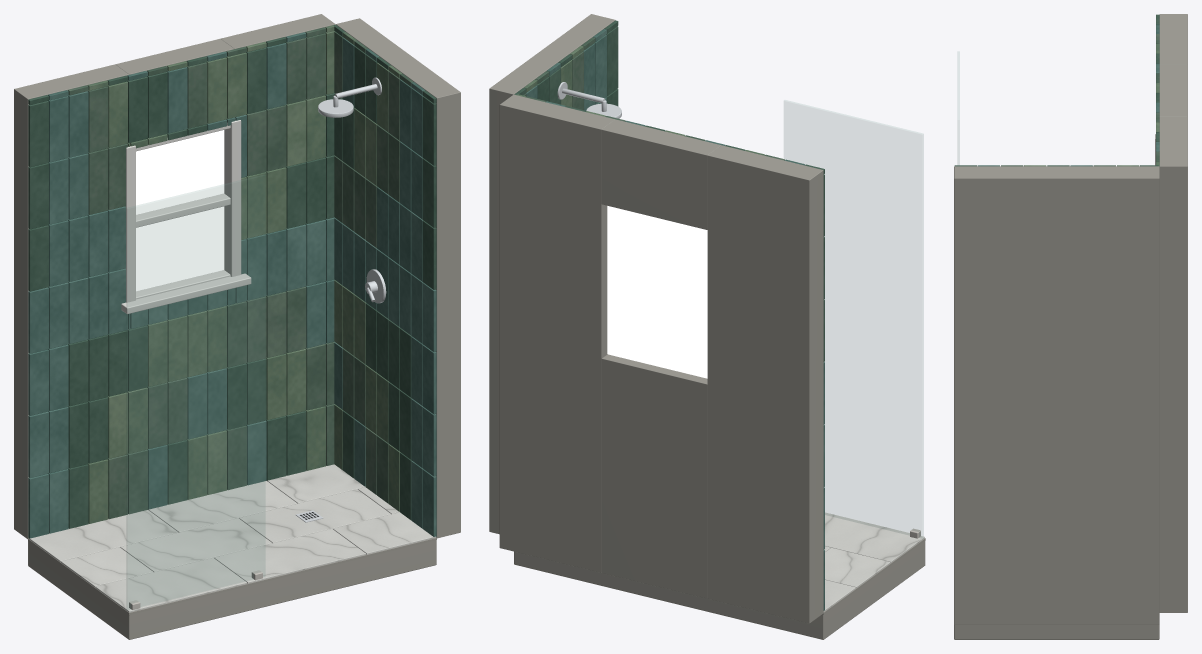
Rendered from walk-in-shower-remodel.glb.
3 renders of one model, left to right at view 1: azimuth 30°, elevation 25°; view 2: azimuth 150°, elevation 25°; view 3: azimuth 270°, elevation 25°, orthographic.
Parts seen in each view (by area): view 1: Frameless screen, Vertically laid green tile · field tile, White shower pan · tile, Vertically laid green tile · field tile.001, Vertically laid green tile · field tile.002, Vertically laid green tile · field tile.003, Glazed green return · field tile, Glazed green return · wall core, White framed window · frosted glazing, Glazed green return · field tile.001, Vertically laid green tile · wall core, White shower pan · foundation (+6 smaller); view 2: Vertically laid green tile · wall core, Frameless screen, White framed window · frosted glazing, Glazed green return · wall core, White shower pan · foundation, White shower pan · tile, Glazed green return · field tile.001, Glazed green return · field tile, Glazed green return · field tile.003, Vertically laid green tile · field tile; view 3: Glazed green return · wall core, Vertically laid green tile · wall core, White shower pan · foundation.
Part boxes in pixels (box(x1,y1,x2,y2)): Frameless screen: box(127, 175, 264, 609); Vertically laid green tile · field tile: box(28, 32, 334, 538); White shower pan · tile: box(28, 464, 436, 612); Vertically laid green tile · field tile.001: box(28, 37, 334, 528); Vertically laid green tile · field tile.002: box(87, 24, 335, 523); Vertically laid green tile · field tile.003: box(68, 27, 334, 519); Glazed green return · field tile: box(334, 37, 436, 537); Glazed green return · wall core: box(336, 18, 460, 538); White framed window · frosted glazing: box(136, 130, 224, 291); Glazed green return · field tile.001: box(334, 24, 436, 519); Vertically laid green tile · wall core: box(14, 14, 335, 539); White shower pan · foundation: box(28, 540, 436, 639); Vertically laid green tile · wall core: box(499, 94, 823, 623); Frameless screen: box(784, 100, 923, 538); White framed window · frosted glazing: box(607, 206, 707, 378); Glazed green return · wall core: box(489, 14, 615, 534); White shower pan · foundation: box(514, 541, 925, 639); White shower pan · tile: box(823, 512, 924, 611); Glazed green return · field tile.001: box(514, 20, 618, 106); Glazed green return · field tile: box(526, 29, 606, 111); Glazed green return · field tile.003: box(523, 37, 595, 109); Vertically laid green tile · field tile: box(545, 101, 824, 610); Glazed green return · wall core: box(954, 166, 1159, 624); Vertically laid green tile · wall core: box(1159, 14, 1187, 612); White shower pan · foundation: box(954, 625, 1159, 639).
Bounding box in the file's own units: 1.7 × 2.29 × 1.02.
13 materials, 5 textured.
